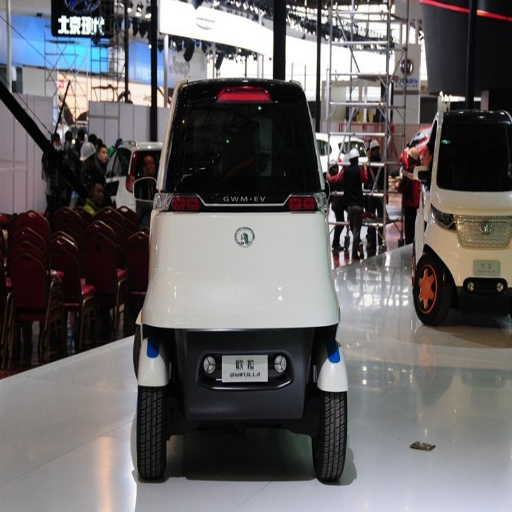back_bumper: (150, 352, 349, 420)
front_bumper: (195, 326, 335, 378), (425, 229, 508, 303)
trunk: (222, 202, 274, 236)
